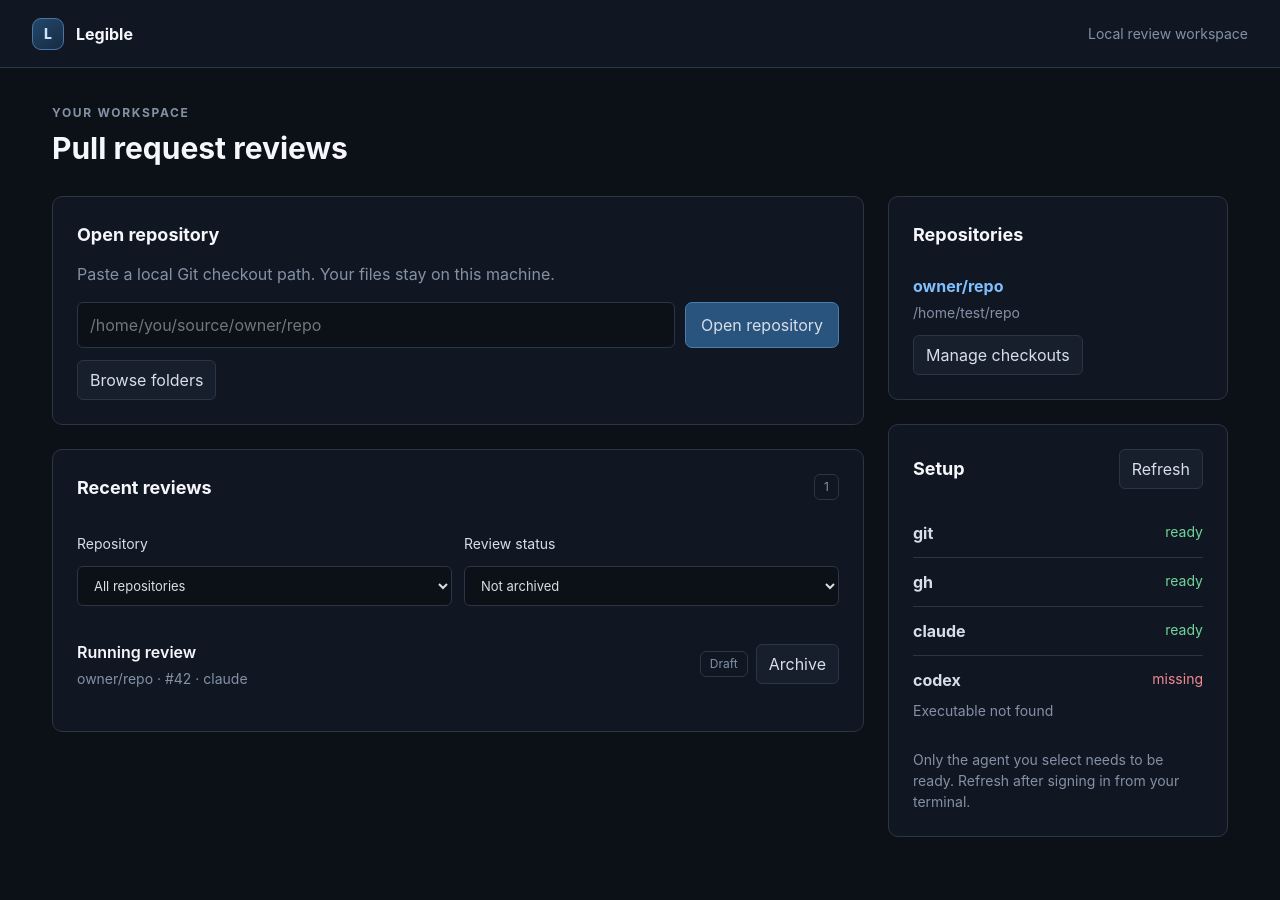
Scenario: Review entry screens › keeps failed archives visible and reports the active-agent conflict
This screenshot has width=1280, height=900.
Click the button with aria-label "Archive Running review".
click(797, 664)  # box [756,644,839,684]
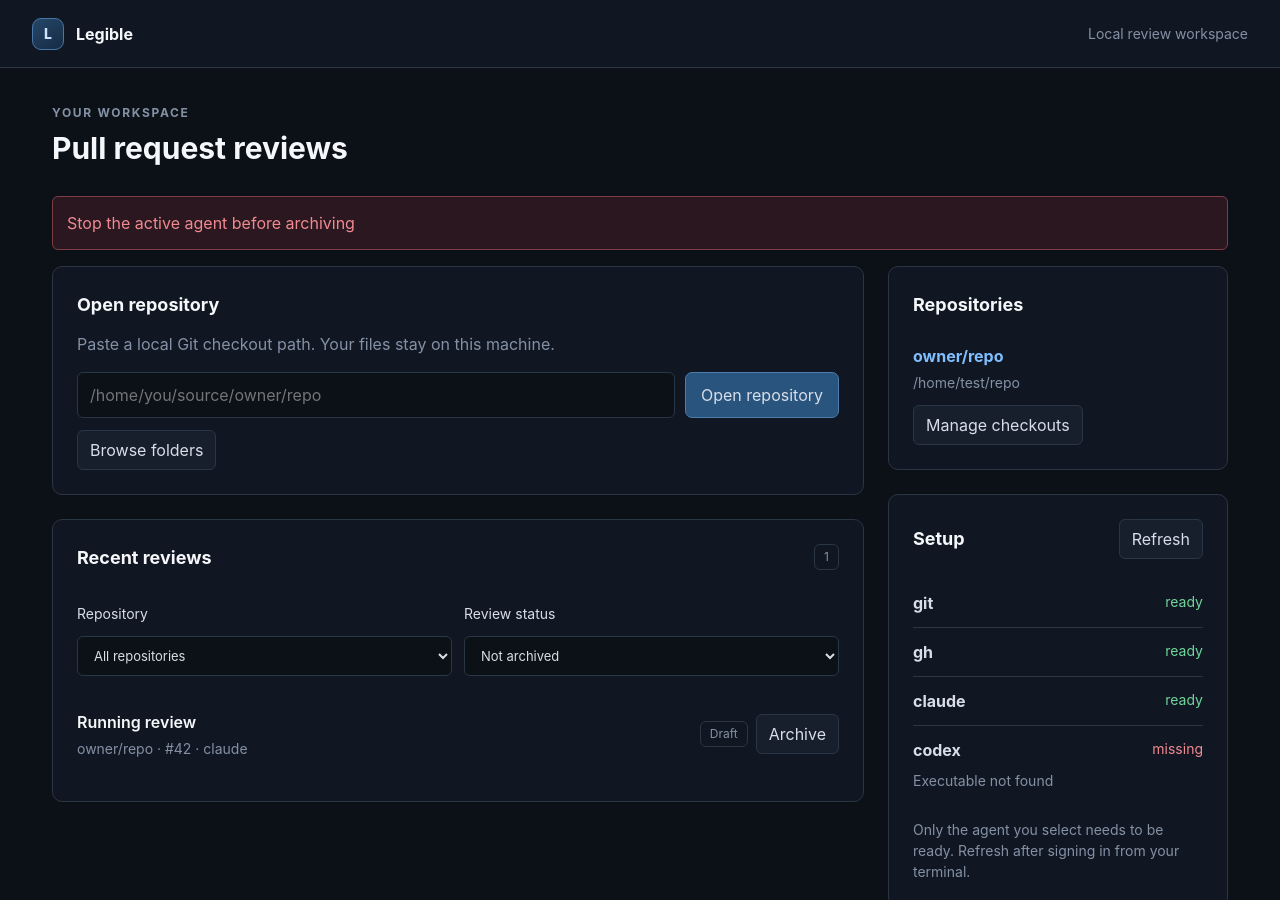
Expected: the text "Running review" is shown, [77,712,196,732]
Expected: the message reads "Stop the active agent before archiving", [67,212,355,232]
